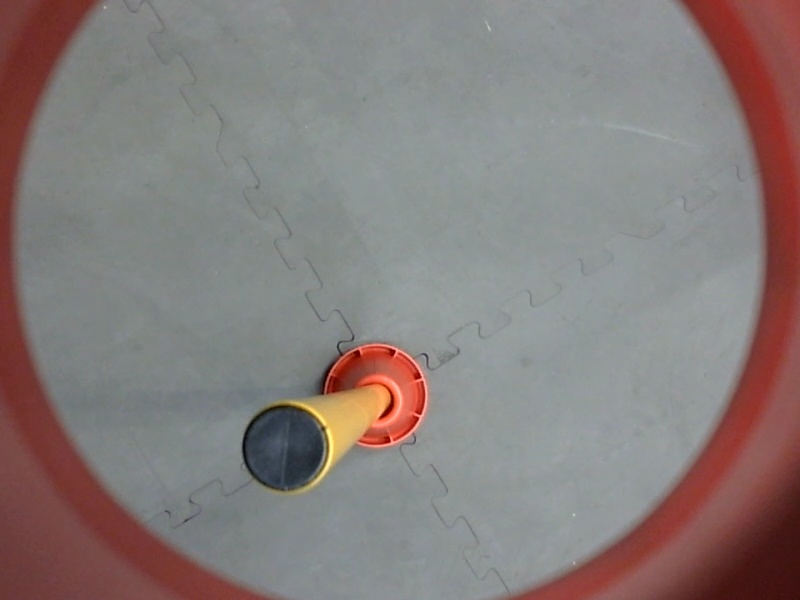tip: (234, 393, 337, 497)
